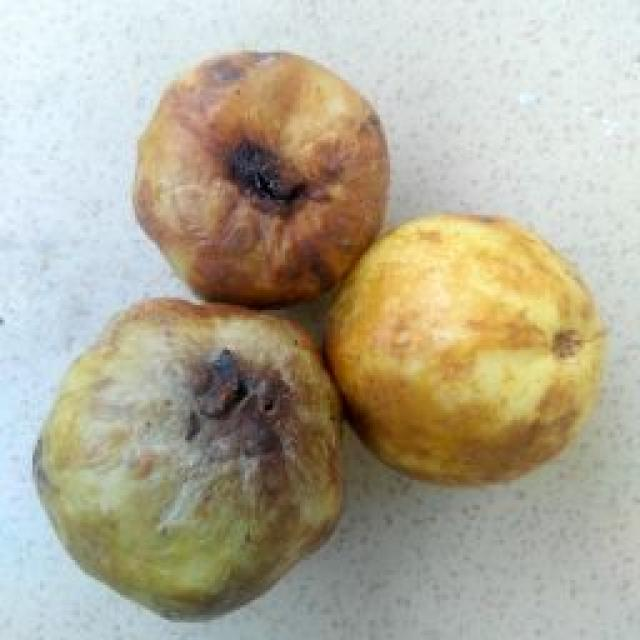Bad_Guava: (35, 299, 342, 618), (132, 52, 388, 307)
